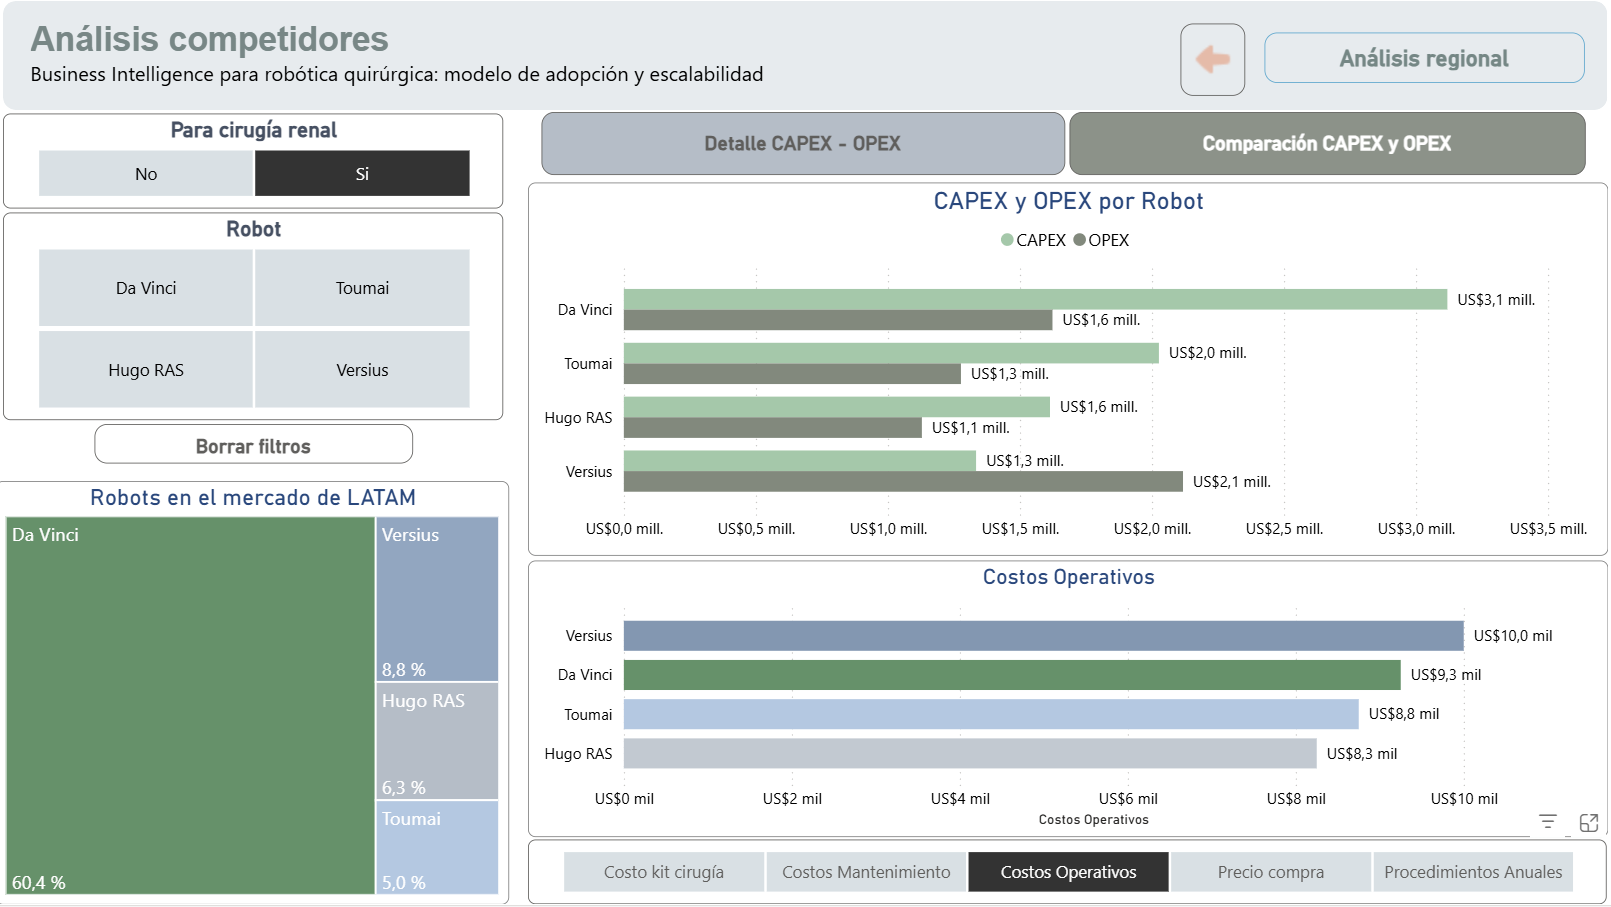

The page's visual inventory and layout, read from the dashboard file:
{"tool":"powerbi","page":{"name":"Análisis competidores","canvas":[1280,720],"ordinal":2},"visuals":[{"type":"clusteredBarChart","fields":{"Y":["competidores.Precio compra"],"Category":["competidores.nombre_robot"]},"box":[423.4,445.6,856.6,219.3],"z":0},{"type":"shape","box":[6.9,2.7,1272.1,86.5],"z":1000},{"type":"textbox","box":[24.2,13.6,616.3,89.3],"z":2000},{"type":"slicer","title":"Para cirugía renal","fields":{"Values":["competidores.cirugia_renal"]},"box":[6.9,91.9,396.6,75.5],"z":3000},{"type":"columnChart","title":"OPEX","fields":{"Category":["competidores.nombre_robot"],"Y":["competidores.ProcedimxCvar","competidores.Costos Mantenimiento","competidores.Costos Operativos"]},"box":[852.4,149.9,427.6,291.5],"z":4000},{"type":"slicer","fields":{"Values":["Parámetro.Parámetro"]},"box":[424,667.8,855.5,51.5],"z":5000},{"type":"actionButton","box":[79.6,337.6,252.5,31.6],"z":6000},{"type":"slicer","title":"Robot","fields":{"Values":["competidores.nombre_robot"]},"box":[6.9,170.2,396.6,164.7],"z":8000},{"type":"treemap","title":"Robots en el mercado de LATAM","fields":{"Group":["competidores.nombre_robot"],"Values":["hospitales.%mMercadoRobot"]},"box":[1.5,383.1,407.3,336.2],"z":9000},{"type":"columnChart","title":"CAPEX","fields":{"Category":["competidores.nombre_robot"],"Y":["competidores.Precio compra","competidores.ImpuestosImportacion","competidores.PromedioInst","competidores.KitStartup"]},"box":[423.4,149.9,427.6,291.5],"z":10000},{"type":"actionButton","title":"Detalle CAPEX - OPEX","box":[434.5,90.2,415.1,50],"z":11000},{"type":"actionButton","box":[852.4,90.2,409.5,50],"z":12000},{"type":"actionButton","box":[1007.9,27.8,254.1,40.3],"z":14000},{"type":"actionButton","box":[941.4,20,51.4,57.1],"z":14001}]}

Visuals, with their boxes in screenshot pixels (x1, y1, x2, y2), scaled from the page's 1280x720 canvas onto the 1611x907 screenshot:
clusteredBarChart - competidores.Precio compra x competidores.nombre_robot: x1=533 y1=561 x2=1610 y2=838
shape: x1=9 y1=3 x2=1610 y2=112
textbox: x1=30 y1=17 x2=806 y2=130
"Para cirugía renal" slicer: x1=9 y1=116 x2=508 y2=211
"OPEX" columnChart: x1=1073 y1=189 x2=1610 y2=556
slicer - Parámetro.Parámetro: x1=534 y1=841 x2=1610 y2=906
actionButton: x1=100 y1=425 x2=418 y2=465
"Robot" slicer: x1=9 y1=214 x2=508 y2=422
"Robots en el mercado de LATAM" treemap: x1=2 y1=483 x2=515 y2=906
"CAPEX" columnChart: x1=533 y1=189 x2=1071 y2=556
"Detalle CAPEX - OPEX" actionButton: x1=547 y1=114 x2=1069 y2=177
actionButton: x1=1073 y1=114 x2=1588 y2=177
actionButton: x1=1269 y1=35 x2=1588 y2=86
actionButton: x1=1185 y1=25 x2=1250 y2=97
